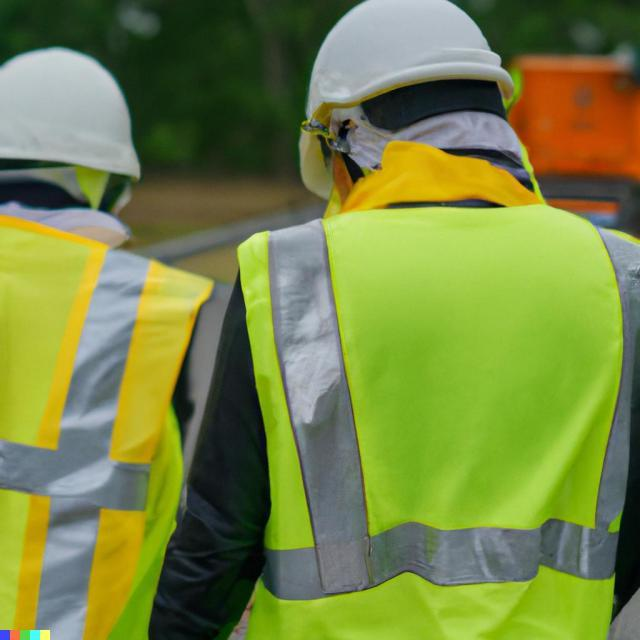reflective_jacket: (222, 162, 639, 639), (5, 212, 207, 639)
safety_helmet: (295, 1, 525, 137), (0, 43, 148, 187)
